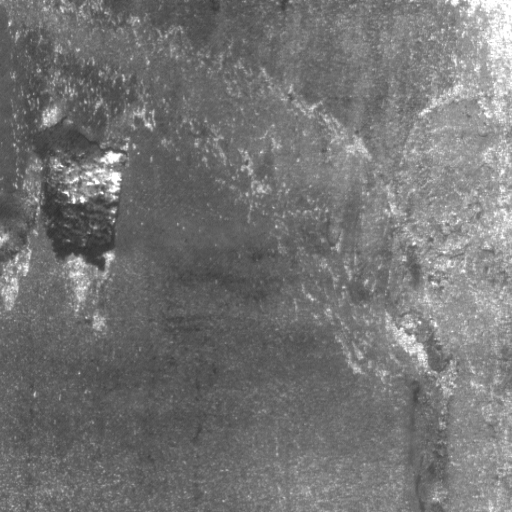qiaopi: (1, 77, 127, 302), (384, 301, 459, 401)
